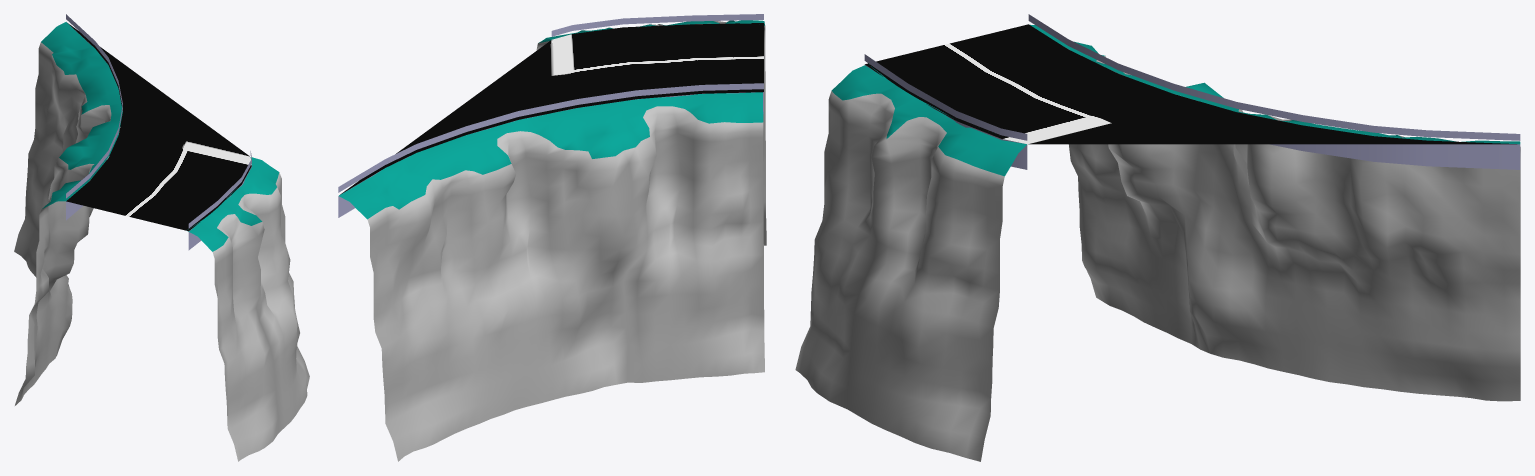
The picture shows the model from 3 angles, left to right: view 1: azimuth 30°, elevation 25°; view 2: azimuth 150°, elevation 25°; view 3: azimuth 270°, elevation 25°; orthographic projection. The views are drawn at different scales.
Visible parts, largest first — view 1: cliff_2, cliff_1, Mesh, guardRail_1, pylon, guardRail_2; view 2: cliff_1, Mesh, guardRail_1, guardRail_2, cliff_2; view 3: cliff_1, cliff_2, Mesh, pylon, guardRail_1, guardRail_2.
Part boxes in pixels (x1=…): cliff_2: x1=186, y1=157, x2=309, y2=461; cliff_1: x1=14, y1=22, x2=122, y2=405; Mesh: x1=66, y1=23, x2=251, y2=231; guardRail_1: x1=66, y1=14, x2=122, y2=198; pylon: x1=66, y1=26, x2=251, y2=250; guardRail_2: x1=188, y1=151, x2=251, y2=228; cliff_1: x1=339, y1=92, x2=764, y2=461; Mesh: x1=340, y1=23, x2=763, y2=194; guardRail_1: x1=338, y1=83, x2=763, y2=192; guardRail_2: x1=551, y1=14, x2=763, y2=36; cliff_2: x1=536, y1=20, x2=766, y2=245; cliff_1: x1=1030, y1=24, x2=1520, y2=401; cliff_2: x1=795, y1=64, x2=1026, y2=461; Mesh: x1=865, y1=24, x2=1516, y2=144; pylon: x1=864, y1=64, x2=1520, y2=169; guardRail_1: x1=1028, y1=14, x2=1520, y2=140; guardRail_2: x1=864, y1=54, x2=1027, y2=140.
Size of the model in its own units: 20.56 by 17.56 by 38.31.
